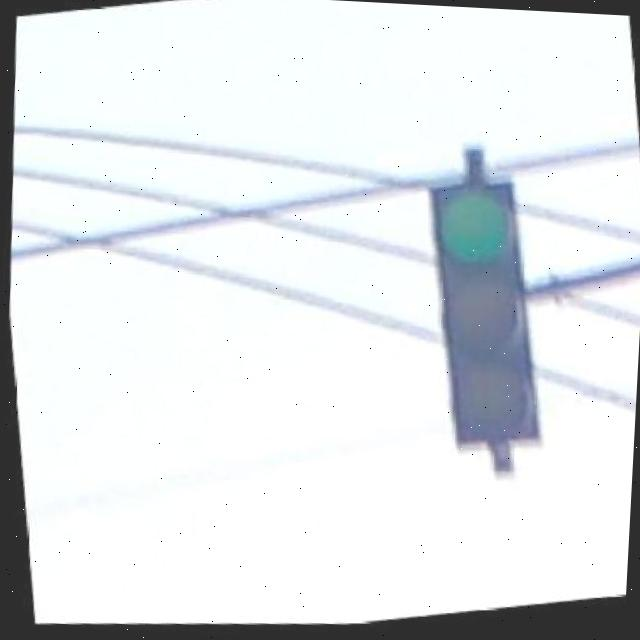green_light: (412, 176, 552, 458)
